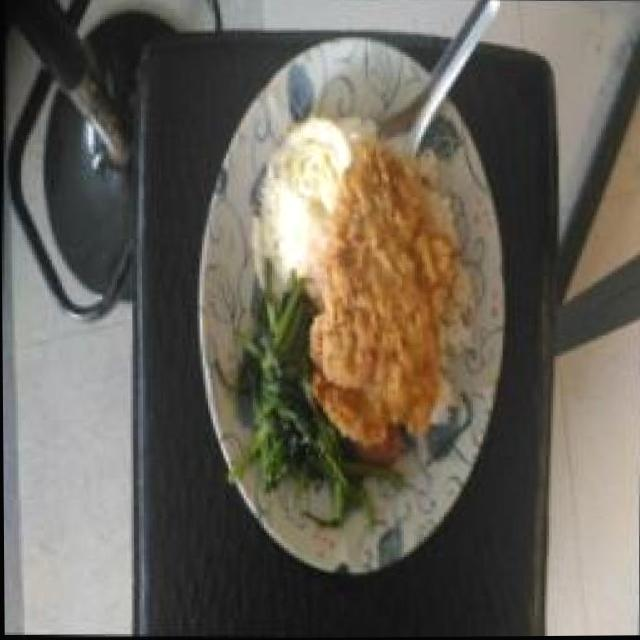fried_chicken: (306, 145, 458, 436)
fried_eggs: (246, 118, 352, 299)
water_spinach: (232, 273, 318, 482)
